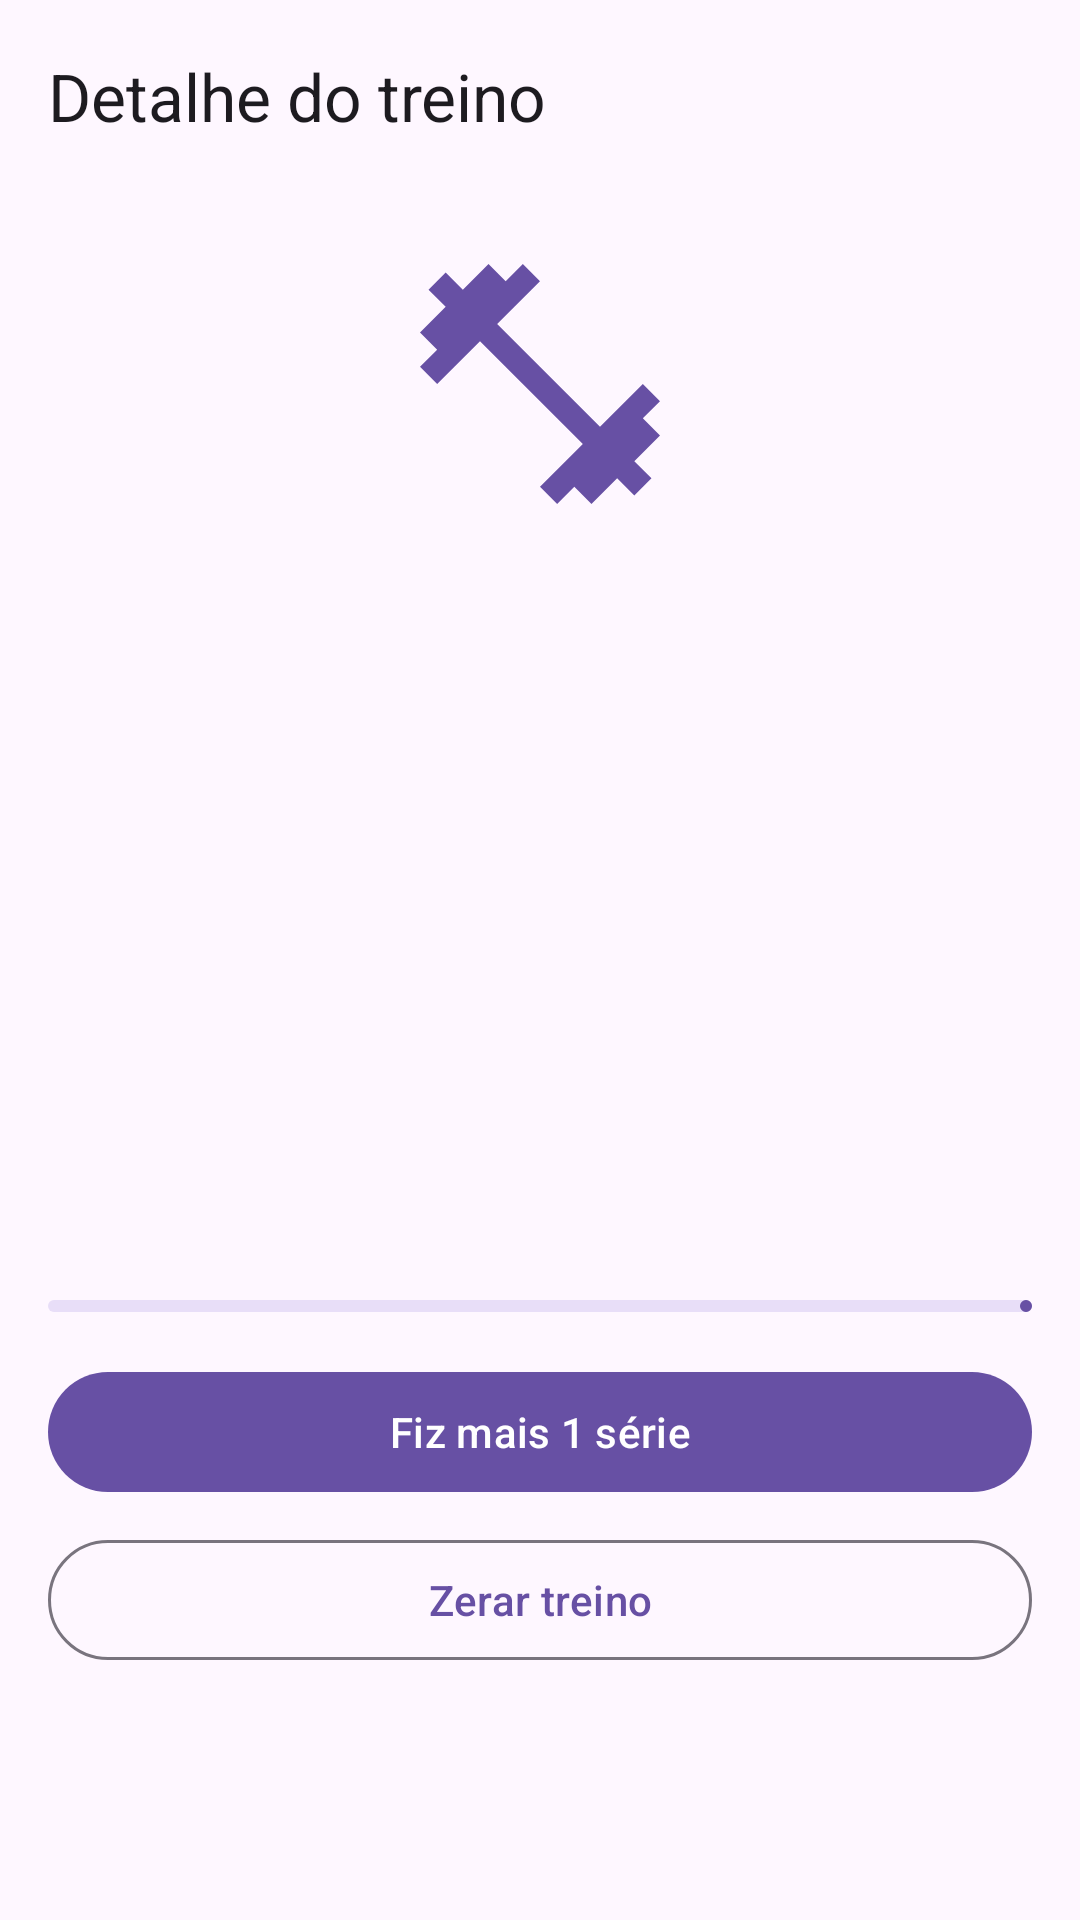

Icons on this 1080 × 1920 Android screen, each with its box as (x1, y1, x2, y2):
Ícone de halter: (420, 264, 660, 504)
